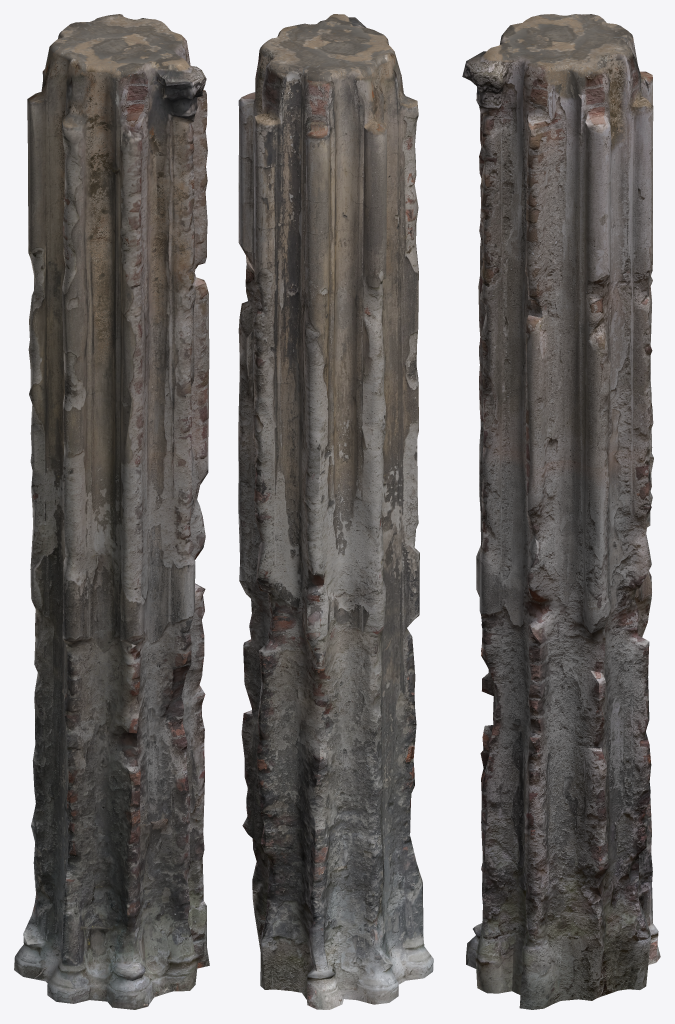
File: SM_ChapelColumn_02_01.fbx
3 renders of one model, left to right at view 1: azimuth 30°, elevation 25°; view 2: azimuth 150°, elevation 25°; view 3: azimuth 270°, elevation 25°, orthographic.
Visible parts, largest first — view 1: sm_ChapelColumn_02_01_LOD0; view 2: sm_ChapelColumn_02_01_LOD0; view 3: sm_ChapelColumn_02_01_LOD0.
Part boxes in pixels (left/top/right/bottom): sm_ChapelColumn_02_01_LOD0: left=14, top=14, right=209, bottom=1009; sm_ChapelColumn_02_01_LOD0: left=238, top=14, right=433, bottom=1009; sm_ChapelColumn_02_01_LOD0: left=462, top=14, right=660, bottom=1009.
Size of the model in its own units: 74.27 by 69.47 by 386.
